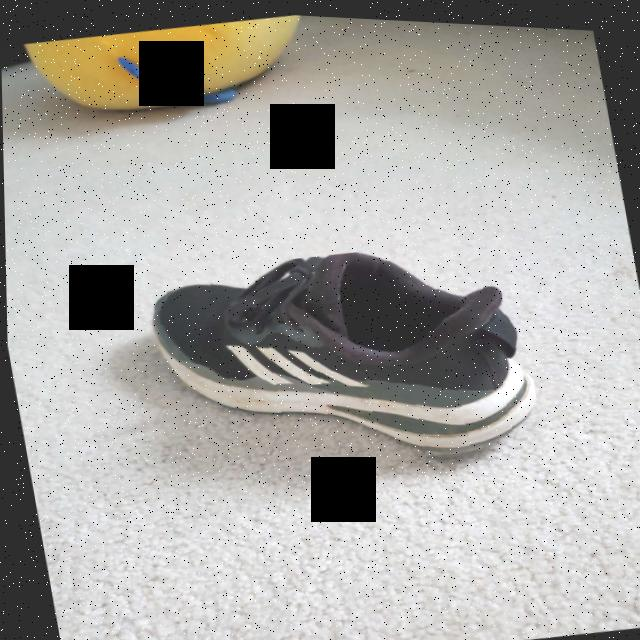shoe: (137, 215, 545, 503)
